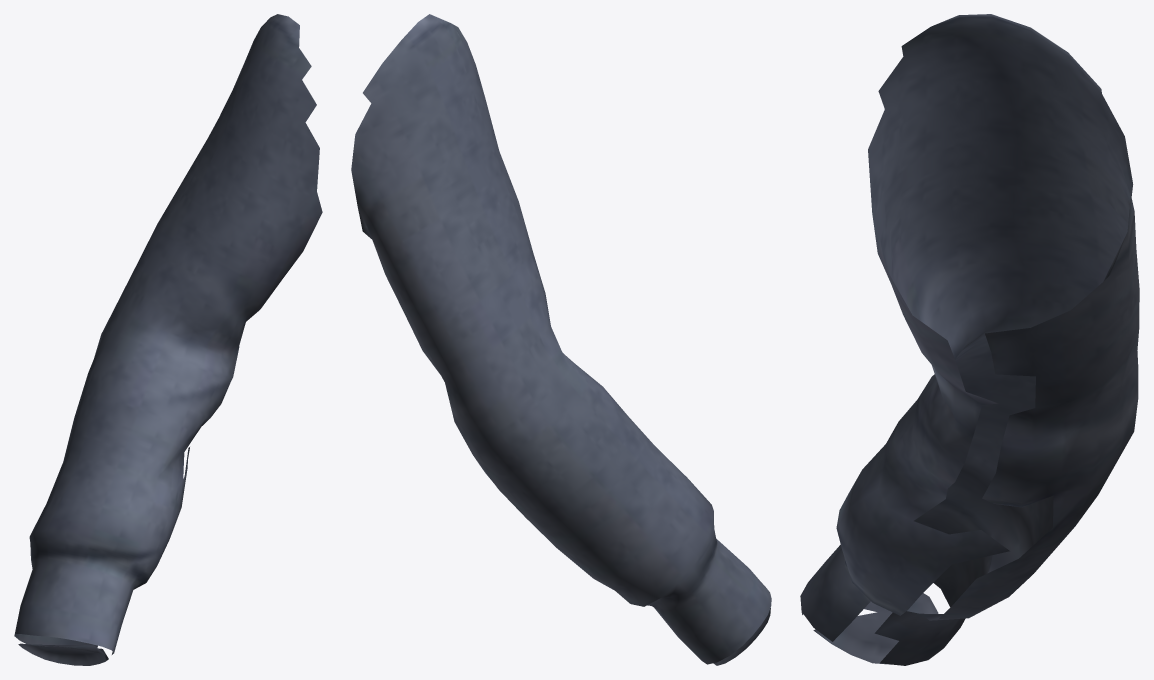
The model's file is profesor_brazoder.glb.
The picture shows the model from 3 angles, left to right: view 1: azimuth 30°, elevation 25°; view 2: azimuth 150°, elevation 25°; view 3: azimuth 270°, elevation 25°; orthographic projection. The views are drawn at different scales.
Visible parts, largest first — view 1: Object_31.001; view 2: Object_31.001; view 3: Object_31.001.
Part boxes in pixels (x1,y1,x2,y2): Object_31.001: (14,14,322,665); Object_31.001: (351,14,771,665); Object_31.001: (800,14,1139,665).
Bounding box in the file's own units: 0.079 × 0.1368 × 0.0508.
1 material, 1 textured.
